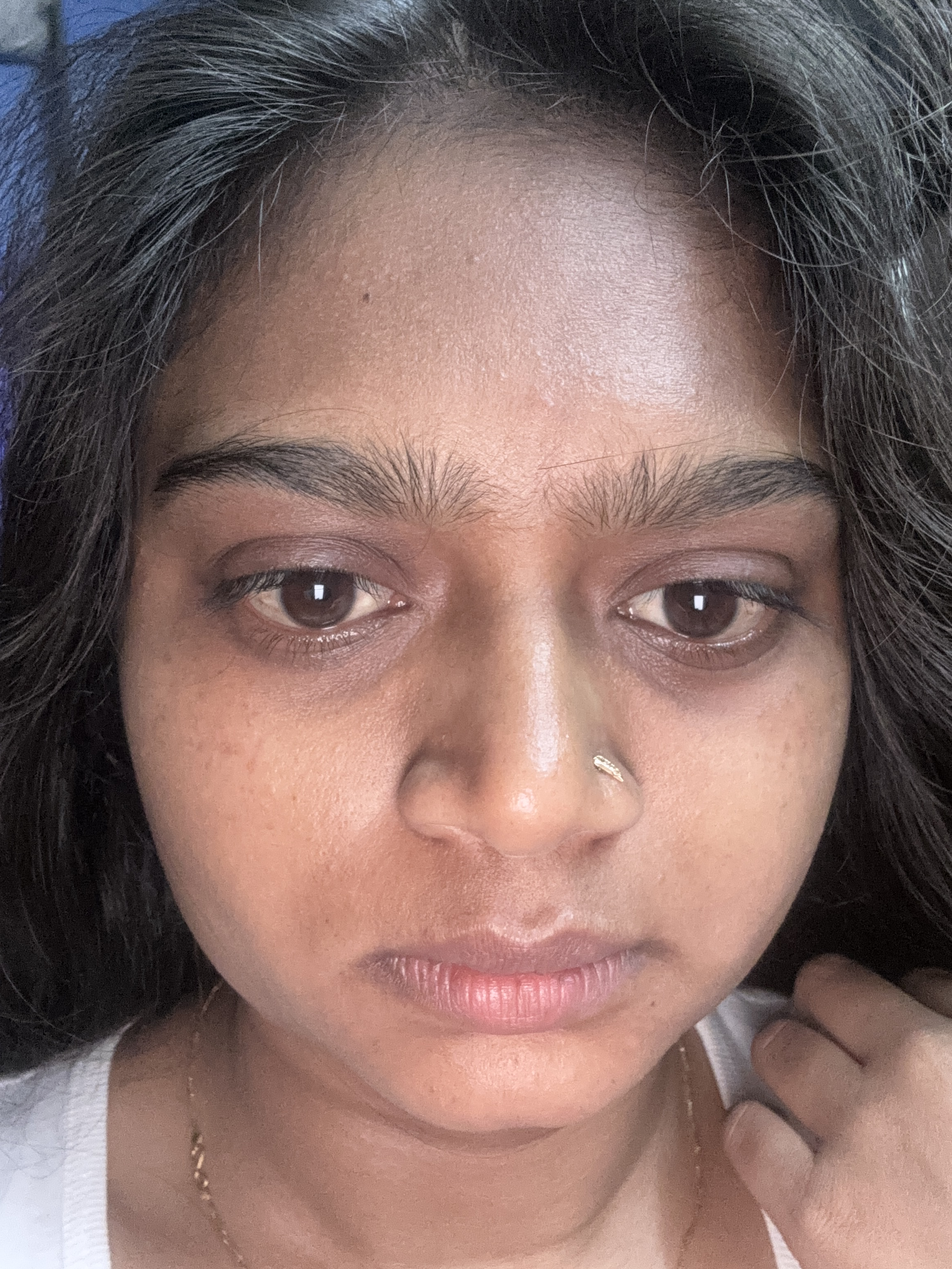closed_comedone: (459, 244, 493, 279), (534, 395, 567, 416), (487, 362, 515, 384)
